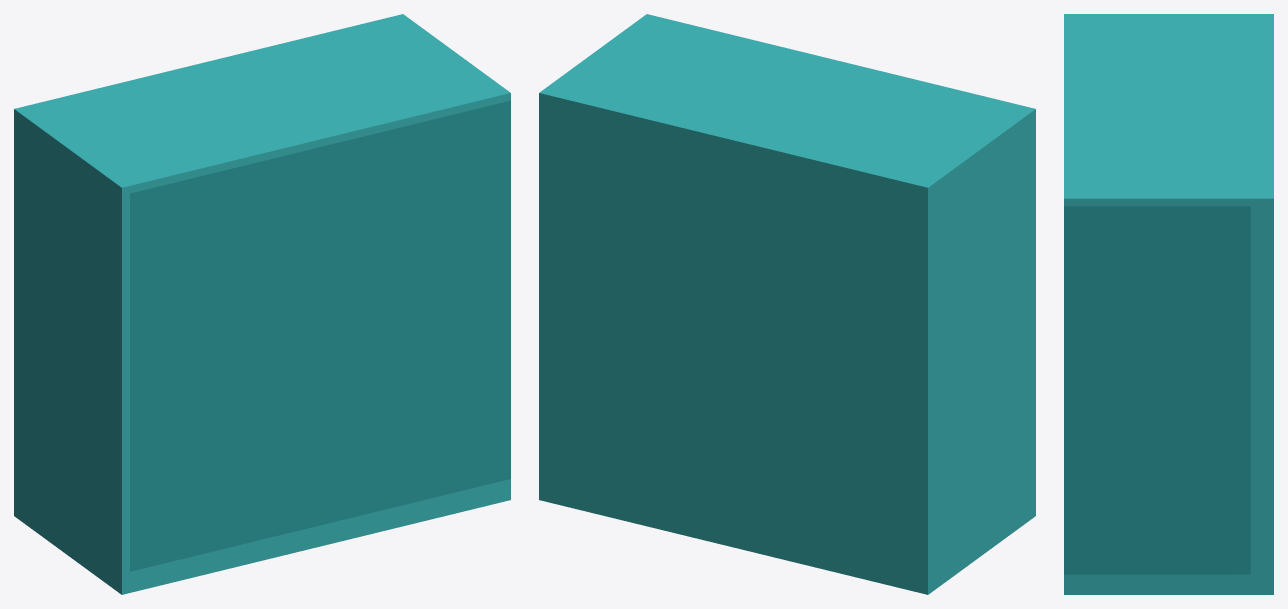
File: pcDiamond.fbx
3 views of the same model, side by side, from view 1: azimuth 30°, elevation 25°; view 2: azimuth 150°, elevation 25°; view 3: azimuth 270°, elevation 25° (orthographic). The views are drawn at different scales.
Visible parts, largest first — view 1: GlassSide.001, PC; view 2: PC; view 3: GlassFront.001, PC.
Boxes of the visible parts, <box> form: GlassSide.001: <box>130,100,510,571</box>; PC: <box>14,14,510,594</box>; PC: <box>539,14,1035,594</box>; GlassFront.001: <box>1064,206,1250,574</box>; PC: <box>1064,14,1273,594</box>.
Bounding box in the file's own units: 2 × 0.96 × 2.
